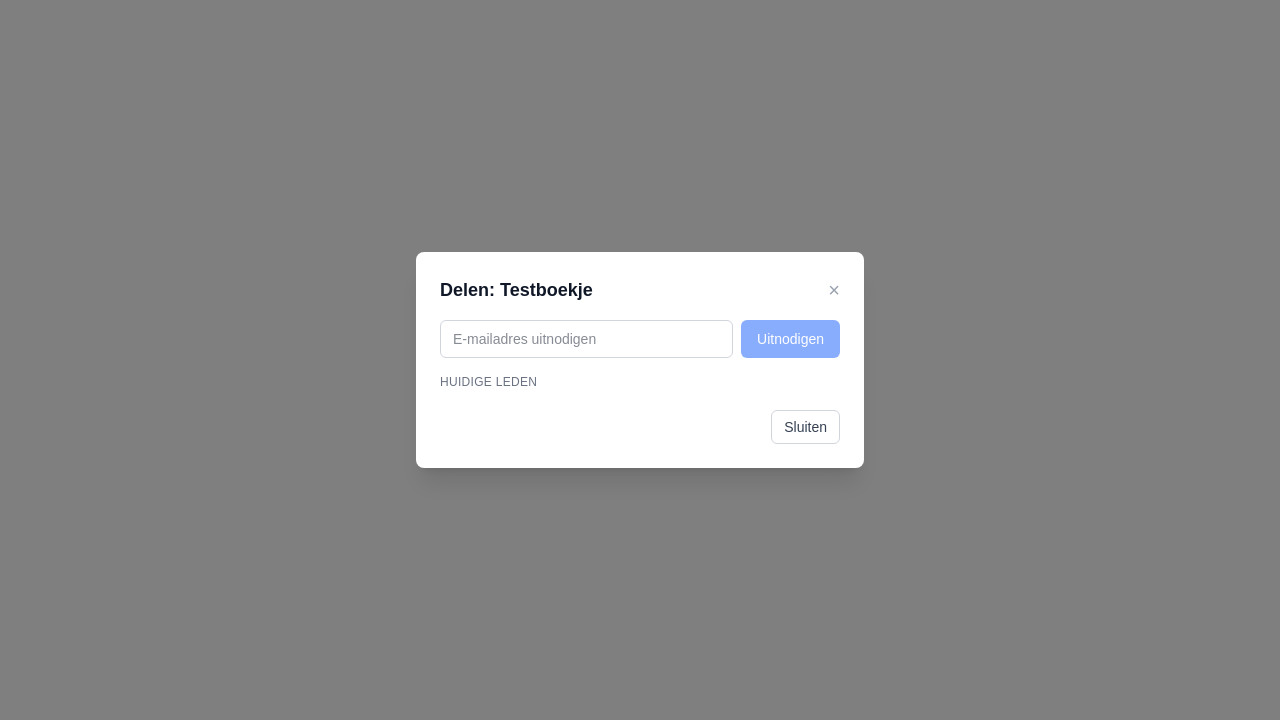
ShareModal › invite flow › shows a success message after a successful invite
The image size is (1280, 720).
Type "new@example.com" into the field with placeholder "E-mailadres uitnodigen" at (587, 339), box [440,320,733,358]
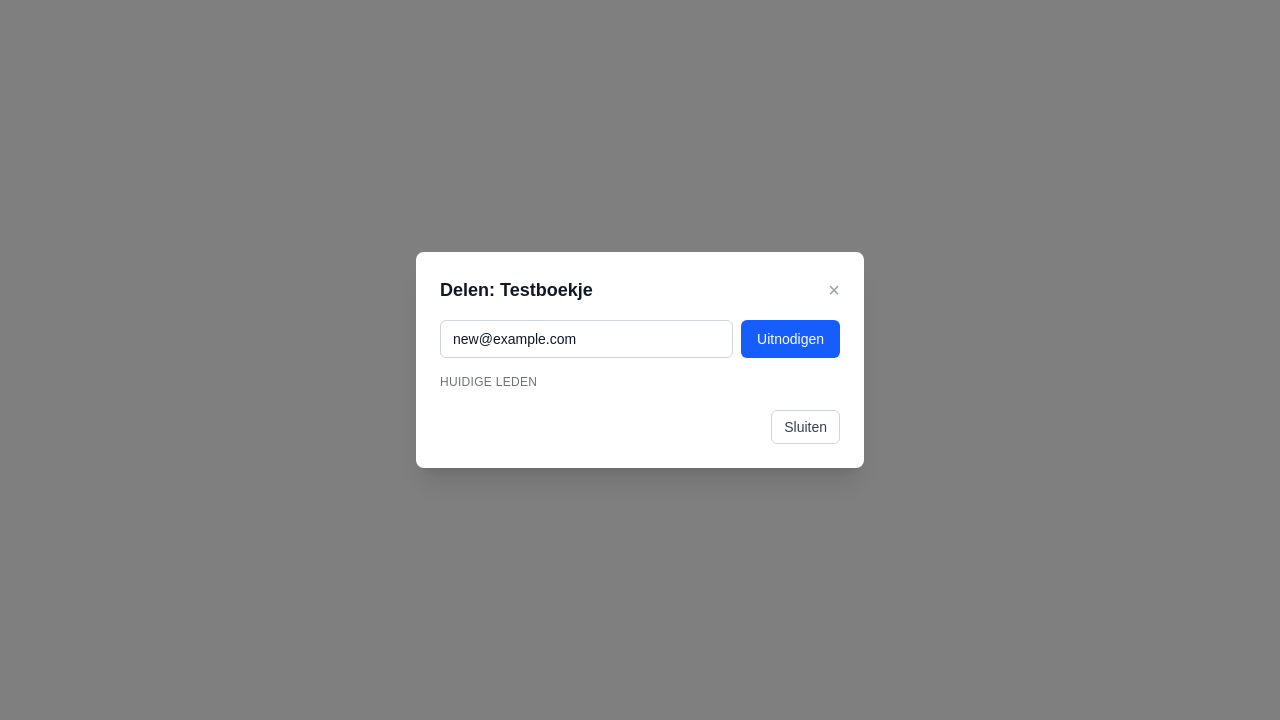
Click the button "Uitnodigen" at (791, 339), box [741,320,840,358]
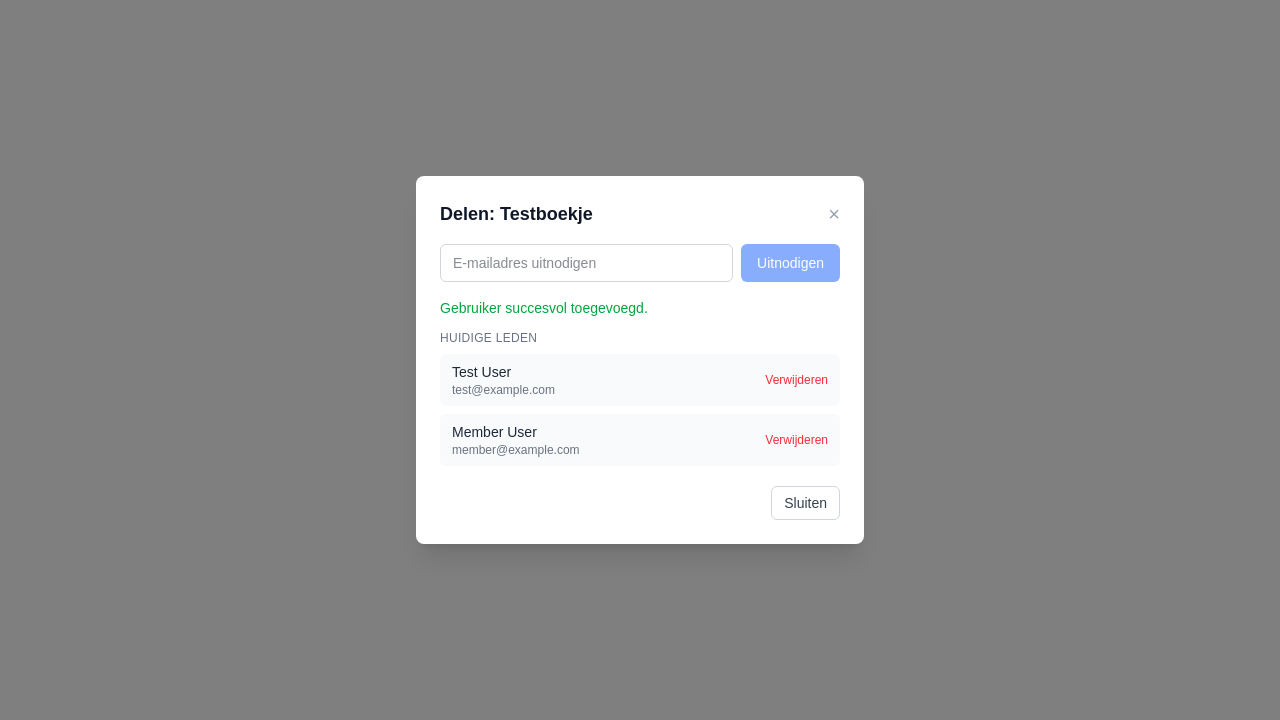
Check: the text "Gebruiker succesvol toegevoegd." is shown, box [440,300,648,316]
